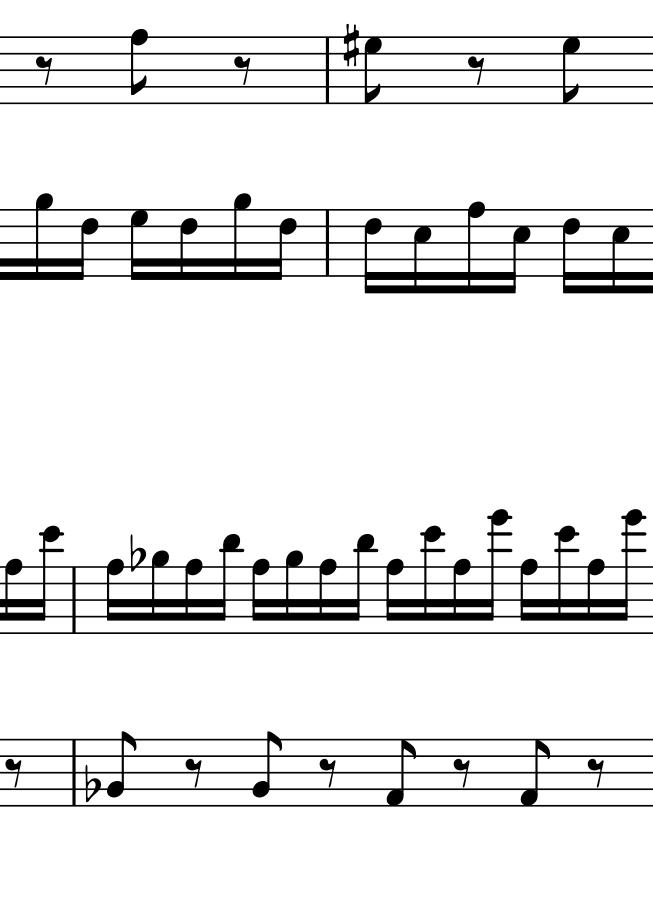16_11: (213, 532, 242, 635), (348, 532, 376, 636)
16_12: (32, 525, 63, 635), (553, 524, 580, 636), (420, 525, 445, 636)
16_14: (482, 508, 512, 636), (616, 509, 646, 637)
16_5: (503, 208, 533, 297), (411, 207, 433, 296), (609, 208, 631, 295)
16_6: (270, 206, 299, 283), (71, 207, 99, 283), (560, 207, 583, 296), (362, 207, 384, 297), (177, 206, 199, 283)
16_7: (127, 206, 149, 285)
16_8: (464, 200, 487, 298), (103, 558, 126, 637), (316, 557, 338, 636), (384, 557, 406, 636), (450, 557, 472, 636), (518, 557, 540, 636), (584, 558, 606, 637), (182, 557, 204, 635), (250, 557, 271, 636), (2, 558, 23, 636)
16_9: (148, 547, 171, 637), (230, 191, 252, 283), (283, 548, 305, 636), (33, 190, 53, 283)
8_1: (383, 737, 419, 808), (517, 737, 552, 807)
8_2: (250, 731, 283, 808), (105, 731, 137, 807)
8_7: (560, 35, 583, 107), (362, 35, 383, 106)
8_8: (127, 28, 150, 107)
Flat: (127, 532, 145, 574), (82, 762, 100, 803)
Rests8: (584, 756, 609, 791), (33, 54, 57, 87), (465, 54, 489, 87), (451, 756, 474, 790), (231, 54, 254, 87), (317, 756, 339, 790), (3, 757, 26, 789), (183, 756, 204, 789)
Sharp: (341, 22, 360, 70)
Single_barline: (66, 567, 81, 633), (320, 38, 335, 101), (67, 741, 81, 804)
